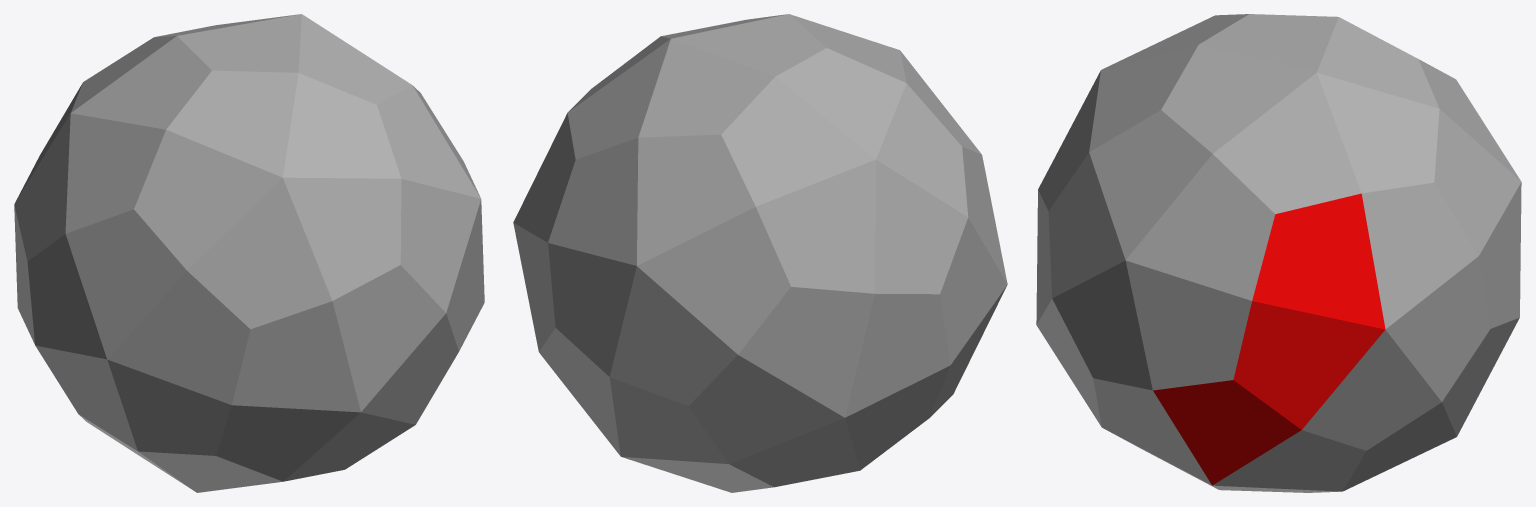
The model's file is polyform1.glb.
3 renders of one model, left to right at view 1: azimuth 30°, elevation 25°; view 2: azimuth 150°, elevation 25°; view 3: azimuth 270°, elevation 25°, orthographic. The views are drawn at different scales.
Size of the model in its own units: 4.32 by 4.28 by 4.34.
